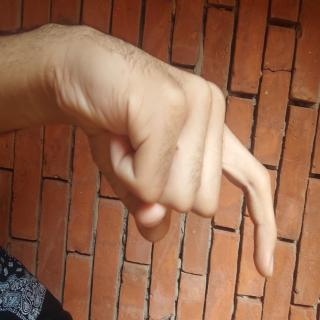RAA: (12, 45, 207, 320)
